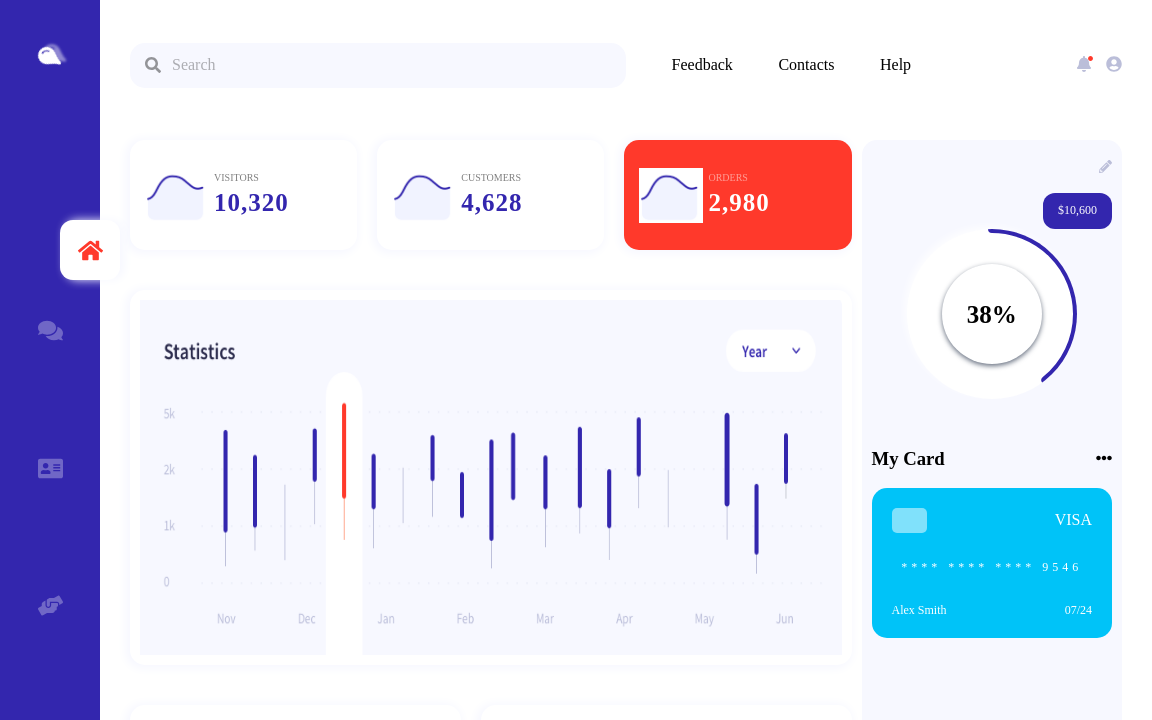
Test: App › I can navigate to help page from the aside component
The width and height of the screenshot is (1152, 720).
Click the link with test id "svg-help".
click(50, 610)  # box [38,602,62,619]
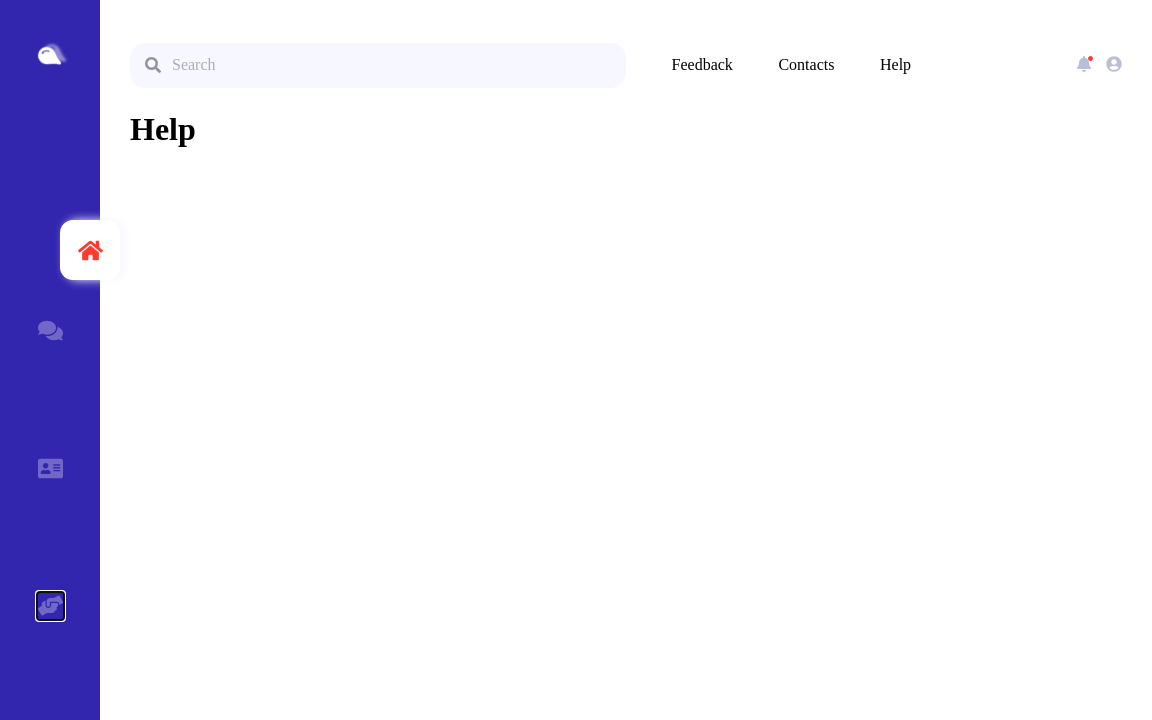
Check: the heading "Help" is shown, box [130,111,196,147]
